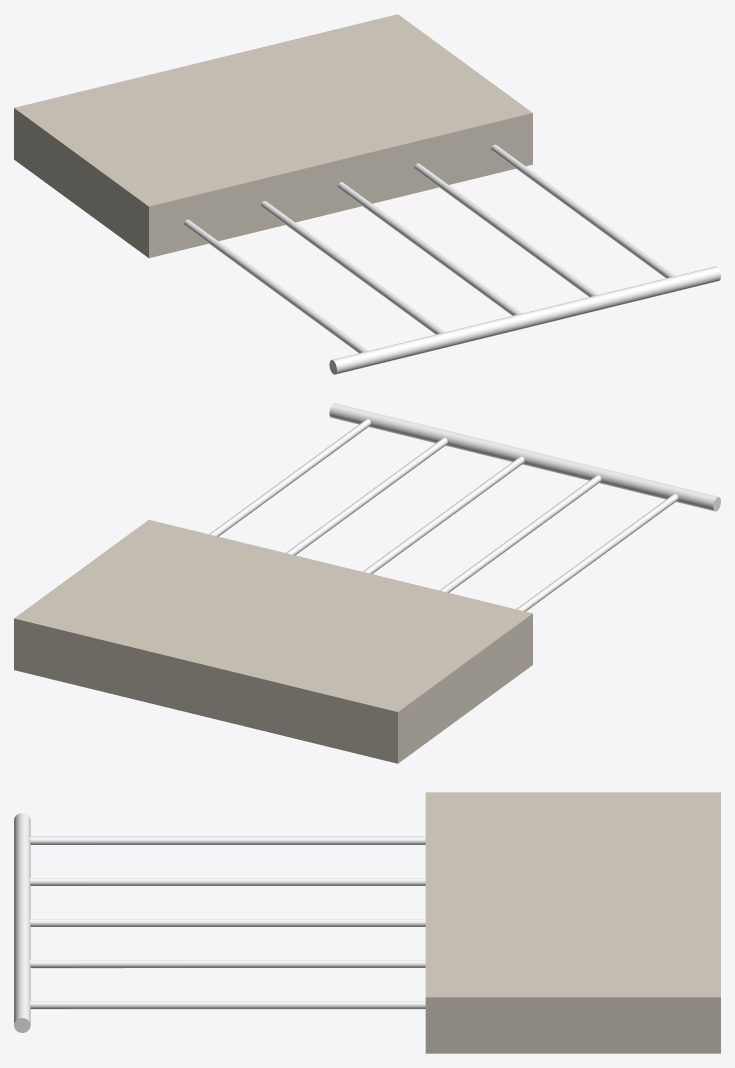
Rendered from Railing01.gltf.
3 views of the same model, one above another, from view 1: azimuth 30°, elevation 25°; view 2: azimuth 150°, elevation 25°; view 3: azimuth 270°, elevation 25° (orthographic). The views are drawn at different scales.
Parts seen in each view (by area): view 1: SIP, Railing; view 2: SIP, Railing; view 3: SIP, Railing.
Boxes of the visible parts, x1,y1,x2,y2 form: SIP: (14, 14, 532, 257); Railing: (184, 144, 720, 374); SIP: (14, 520, 532, 763); Railing: (209, 403, 720, 611); SIP: (425, 792, 720, 1053); Railing: (14, 813, 425, 1032).
Size of the model in its own units: 1.17 by 0.15 by 1.7.
